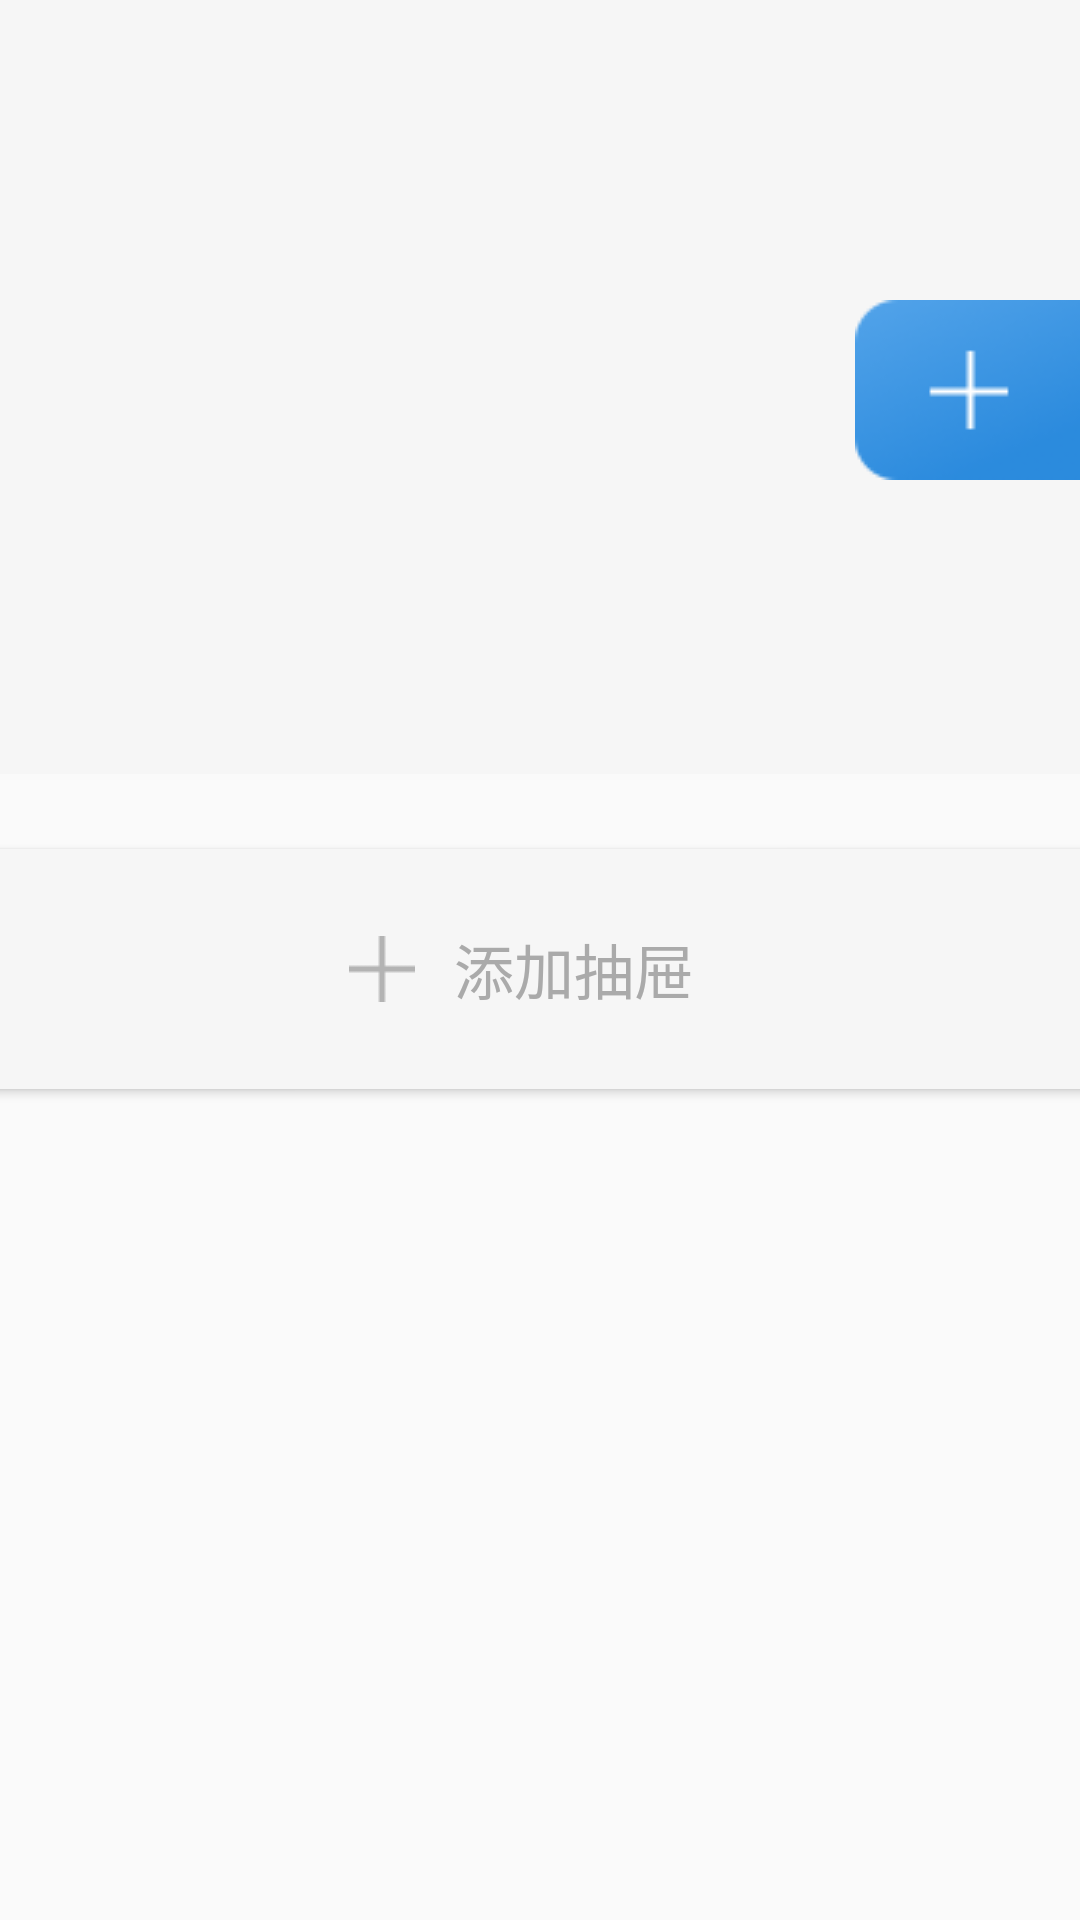

Where to tap for icons on this 1080×1920 app screen, as (x,y):
addcabinet style: (967,390)
